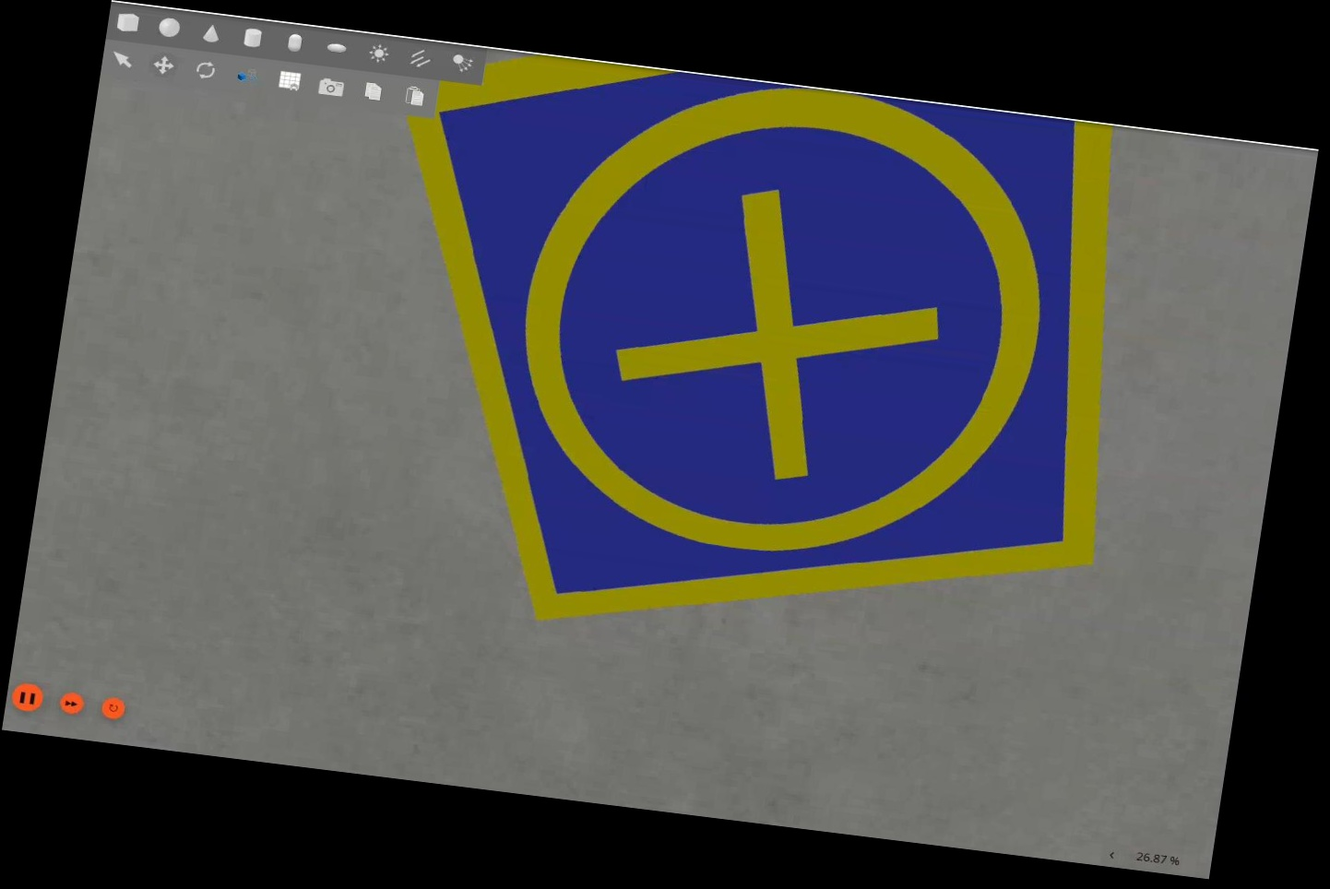small_base: (334, 38, 1165, 693)
